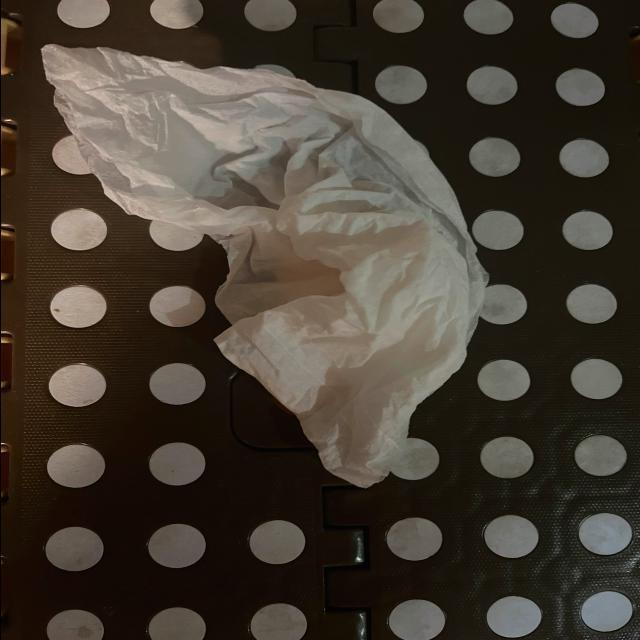Paper: (43, 42, 486, 488)
